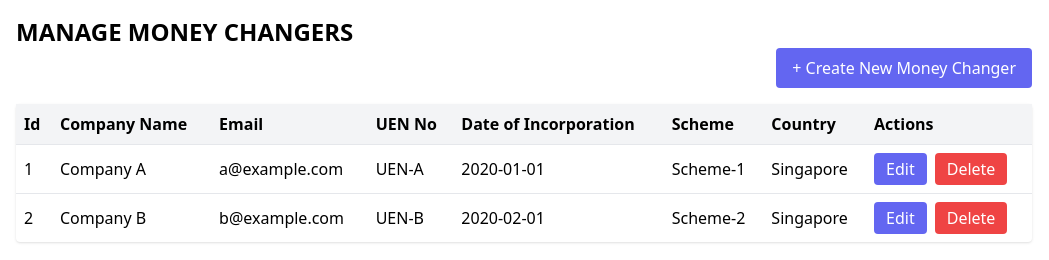
Test: MoneyChangerList › deletes a money changer
Check: the text "Company A" is shown, box [52,144,211,194]
// Click delete
Click the button "Delete" in the row of "Company A" at x=971, y=169, box [935,153,1007,185]
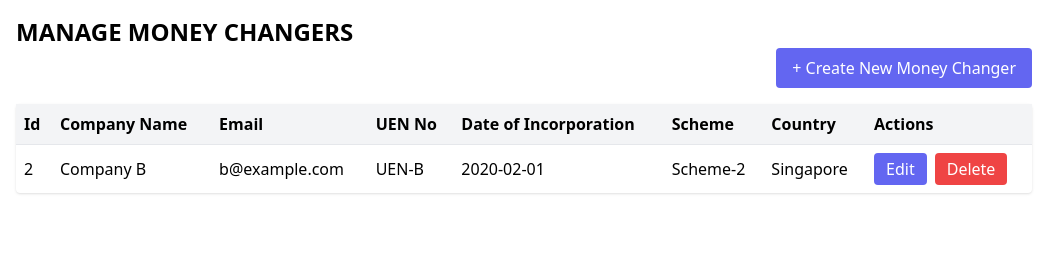
Check: the text "Company B" is shown, box [52,144,211,193]
Check: the text "Company A" is gone
